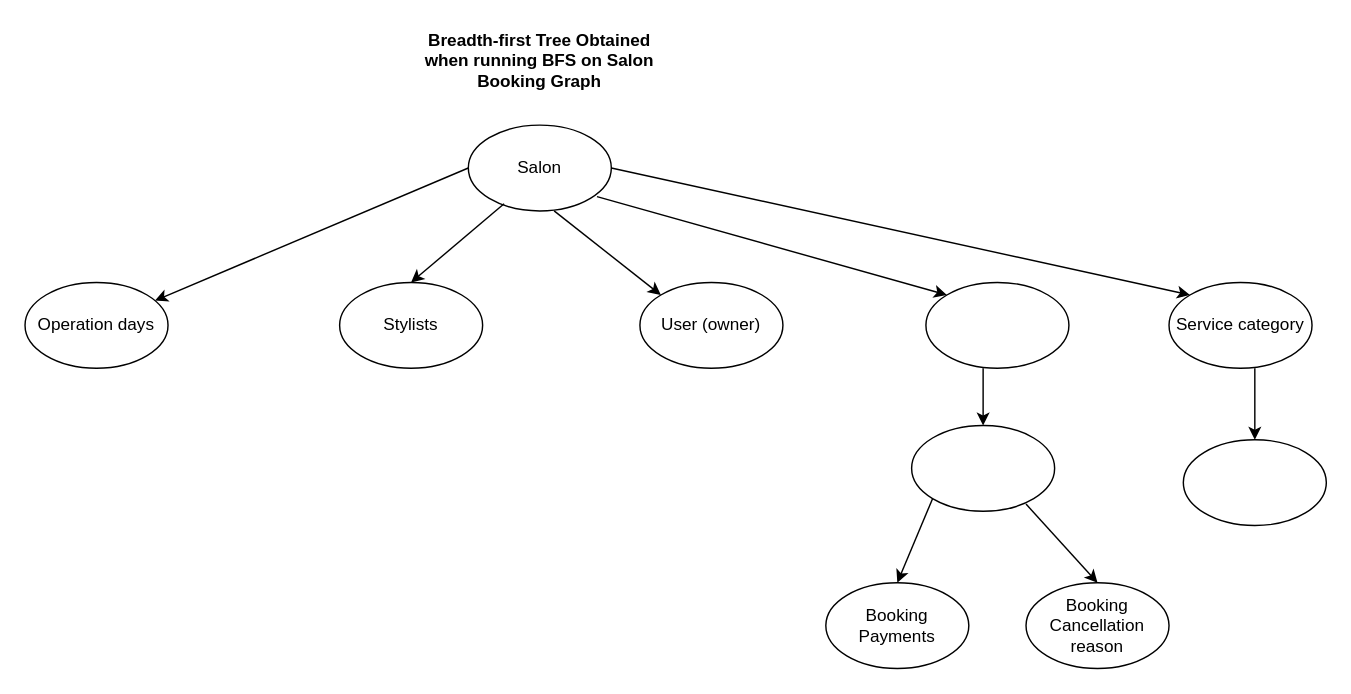
Some shapes in this 1351 by 694 pixel diagram are drawn without their labels. The box of each missing label's shape, as (x1, y1, x2, y2) in pixels:
Booking: (910, 424, 1055, 511)
Customer: (924, 281, 1069, 368)
Salon Service: (1182, 438, 1326, 526)
